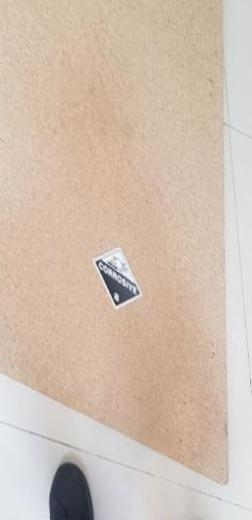corrosive: (91, 247, 143, 314)
